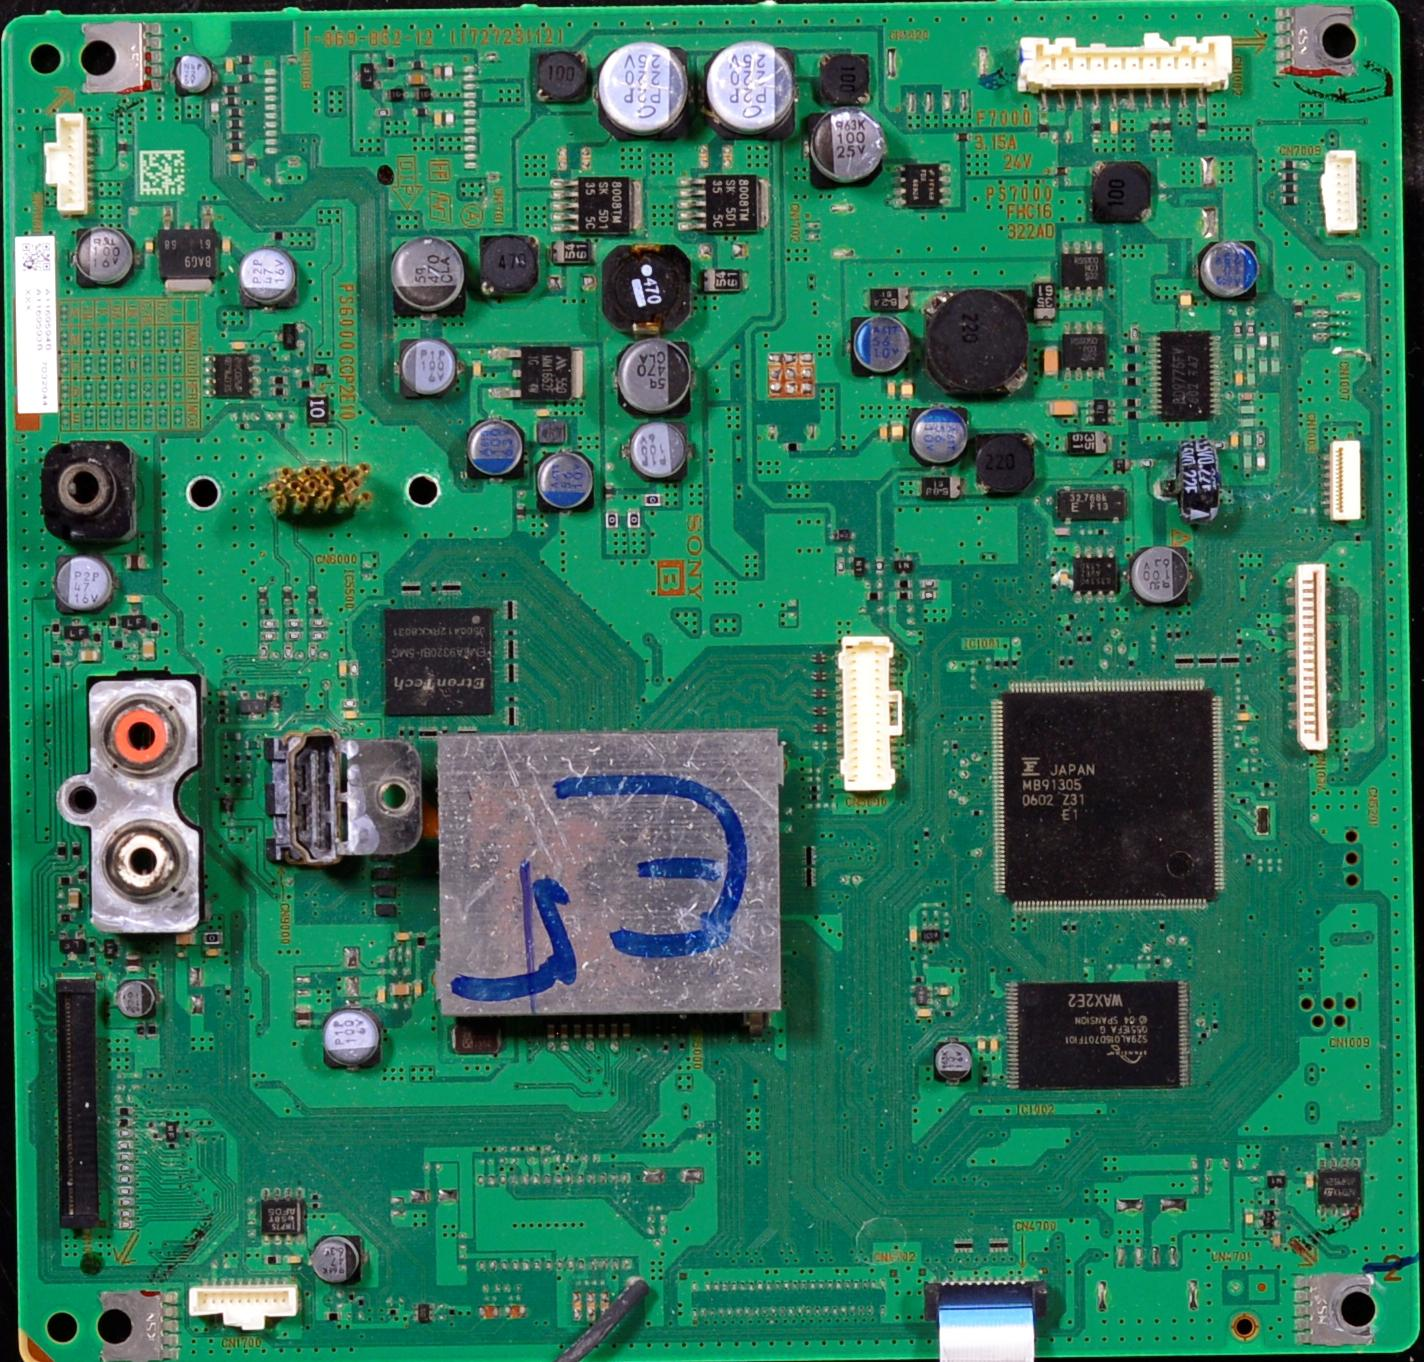Capacitor Jumper: (590, 38, 703, 137), (378, 224, 476, 327), (707, 42, 798, 139), (608, 333, 706, 416), (229, 244, 322, 312), (395, 338, 462, 412), (319, 1007, 389, 1075), (904, 407, 974, 474), (534, 446, 596, 520), (43, 552, 118, 613), (66, 229, 145, 286), (624, 425, 699, 485), (847, 314, 914, 380), (463, 418, 533, 479), (914, 1039, 980, 1089), (167, 51, 214, 103), (116, 980, 161, 1022), (1039, 338, 1062, 387), (548, 141, 576, 173), (390, 922, 421, 947), (871, 415, 891, 451), (1171, 285, 1193, 318), (1044, 396, 1079, 415), (175, 928, 203, 953), (900, 921, 922, 950), (66, 881, 86, 912), (78, 647, 109, 666), (139, 636, 161, 661), (390, 979, 417, 1001), (332, 656, 352, 684), (1296, 1169, 1318, 1193), (534, 401, 557, 423), (1238, 1203, 1256, 1232), (473, 352, 489, 383), (1106, 113, 1125, 139), (375, 983, 392, 1011), (695, 145, 715, 169), (220, 234, 239, 257), (900, 378, 915, 406), (891, 418, 905, 449), (403, 72, 436, 85), (1229, 426, 1246, 450), (1233, 388, 1260, 402), (581, 144, 594, 173), (339, 705, 364, 720), (220, 52, 238, 72), (974, 1031, 988, 1057), (884, 378, 898, 403), (933, 984, 959, 998), (1269, 1228, 1284, 1251), (122, 591, 146, 605), (144, 235, 159, 257), (723, 144, 736, 169), (915, 1007, 938, 1021), (1232, 365, 1246, 388), (226, 153, 250, 164), (416, 975, 427, 1000), (432, 111, 445, 131), (202, 950, 226, 960), (987, 1034, 998, 1054), (229, 340, 249, 351)
Connector: (1261, 556, 1371, 773), (994, 20, 1254, 100), (828, 631, 913, 800), (186, 1277, 318, 1345), (38, 111, 103, 219), (1312, 437, 1382, 537), (1312, 146, 1366, 253)
IC: (987, 685, 1240, 917), (1004, 979, 1204, 1097), (371, 602, 503, 721), (492, 340, 594, 409), (679, 170, 784, 237), (552, 173, 652, 239)
Resistor Jumper: (806, 103, 889, 198), (952, 130, 980, 148), (1119, 394, 1151, 409), (1086, 116, 1106, 139), (863, 588, 887, 607), (51, 842, 71, 863), (1275, 154, 1303, 169), (370, 106, 395, 122), (1162, 113, 1179, 137), (1119, 407, 1149, 420), (867, 556, 889, 574), (70, 839, 86, 862), (1277, 192, 1306, 205), (1037, 116, 1051, 141), (442, 58, 455, 86), (1116, 342, 1139, 357), (1120, 360, 1143, 375), (1148, 114, 1161, 141), (225, 140, 247, 155), (1271, 169, 1303, 179), (1243, 318, 1257, 341), (896, 576, 917, 591), (235, 52, 256, 67), (1275, 182, 1302, 193), (1231, 320, 1245, 342), (348, 657, 362, 679), (75, 866, 93, 883), (1123, 371, 1146, 384), (1292, 298, 1306, 318), (1194, 116, 1207, 137), (298, 376, 315, 392), (408, 60, 431, 71), (268, 375, 294, 385), (238, 72, 256, 86), (835, 554, 847, 576), (226, 106, 245, 118), (57, 874, 76, 886), (444, 111, 455, 131), (413, 104, 430, 118), (900, 589, 918, 602), (385, 55, 398, 72), (225, 130, 243, 141), (222, 85, 242, 95), (225, 117, 245, 126), (271, 388, 289, 397), (226, 94, 240, 103)
